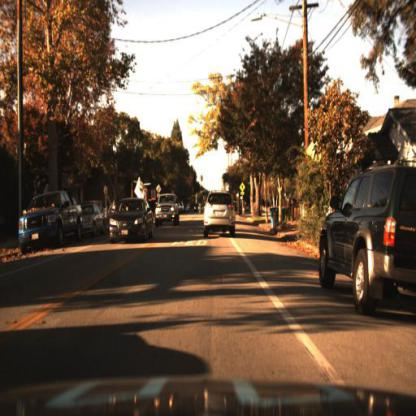car: (318, 156, 415, 316), (17, 190, 83, 254), (109, 196, 155, 246), (204, 192, 238, 240), (154, 193, 182, 227)
